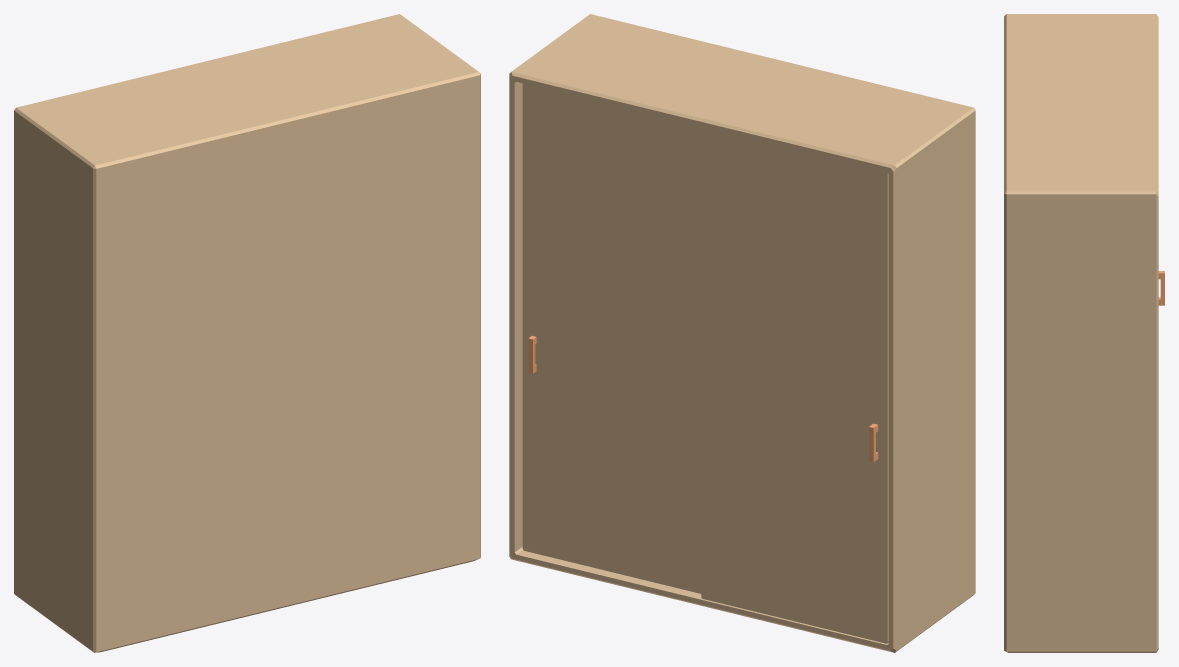
File: Wardrobe.fbx
3 renders of one model, left to right at view 1: azimuth 30°, elevation 25°; view 2: azimuth 150°, elevation 25°; view 3: azimuth 270°, elevation 25°, orthographic. The views are drawn at different scales.
Parts seen in each view (by area): view 1: Wardrobe; view 2: Wardrobe; view 3: Wardrobe.
Boxes of the visible parts, x1,y1,x2,y2 form: Wardrobe: (14, 14, 480, 652); Wardrobe: (509, 14, 975, 652); Wardrobe: (1004, 14, 1164, 652).
Bounding box in the file's own units: 486 × 585 × 184.
